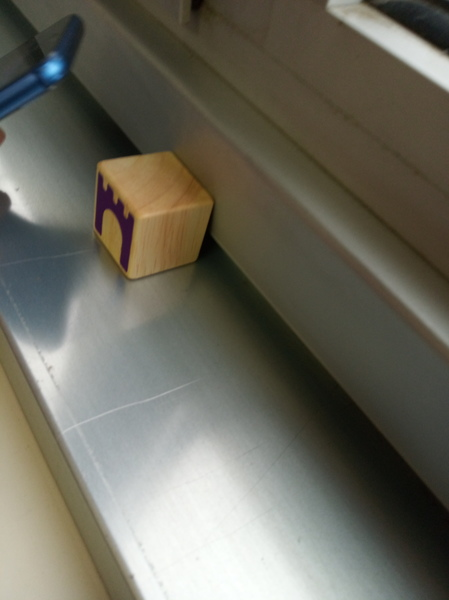violet: (90, 162, 203, 279)
